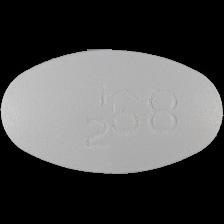61786-484: (0, 0, 224, 224)
